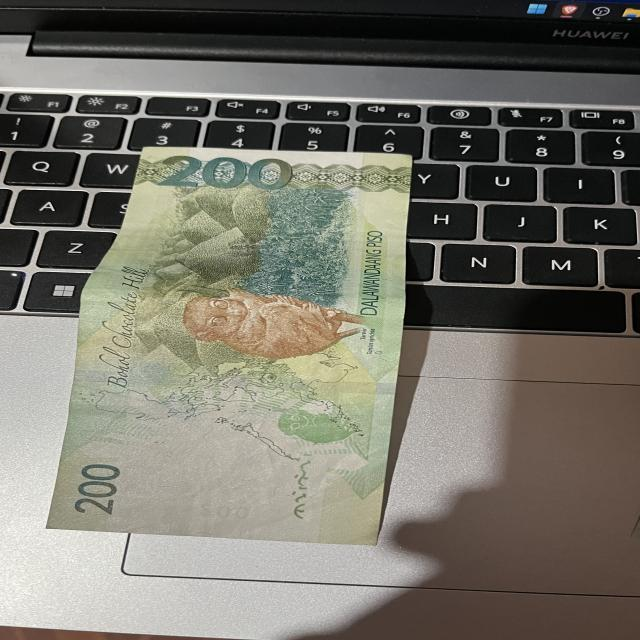200_tarsier: (148, 280, 388, 370)
200_tarsier_watermark: (250, 401, 374, 455)
see_through_mark: (282, 450, 331, 525)
value_watermark: (187, 498, 265, 524)
watermark: (120, 431, 302, 528)
